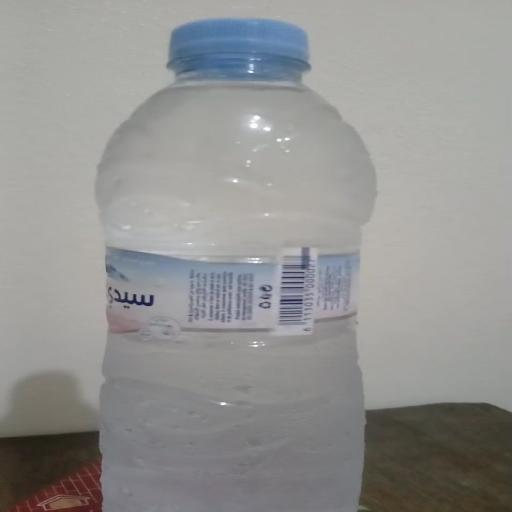bouteille conformite: (96, 19, 374, 511)
